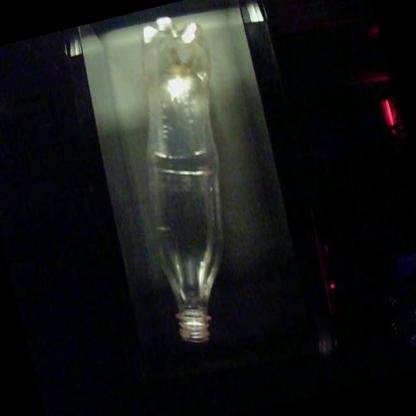Plastic Bottle: (143, 17, 223, 344)
